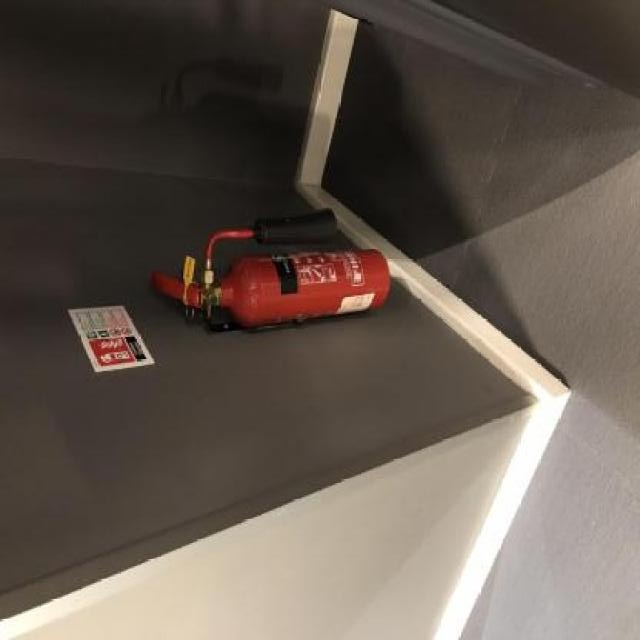fire extinguisher: (156, 206, 390, 326)
